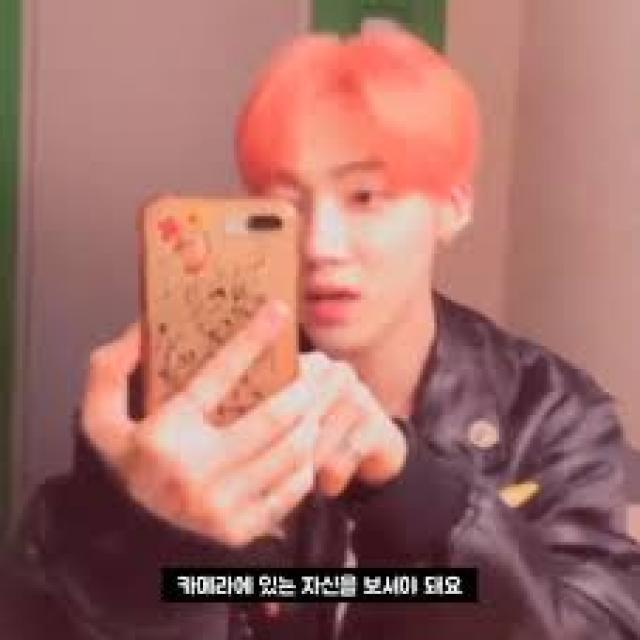Phone: (142, 196, 302, 462)
